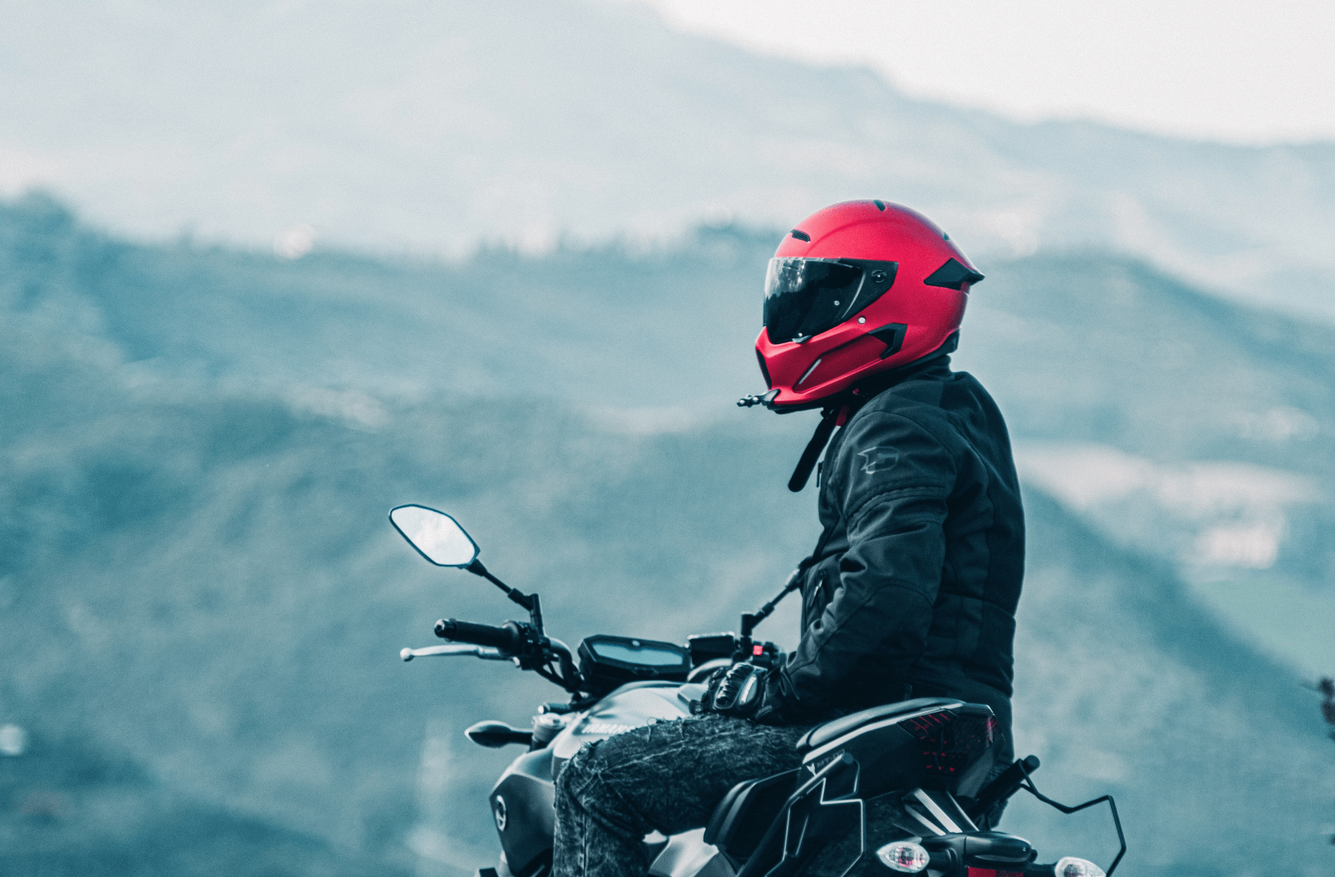helmets: (703, 181, 991, 419)
